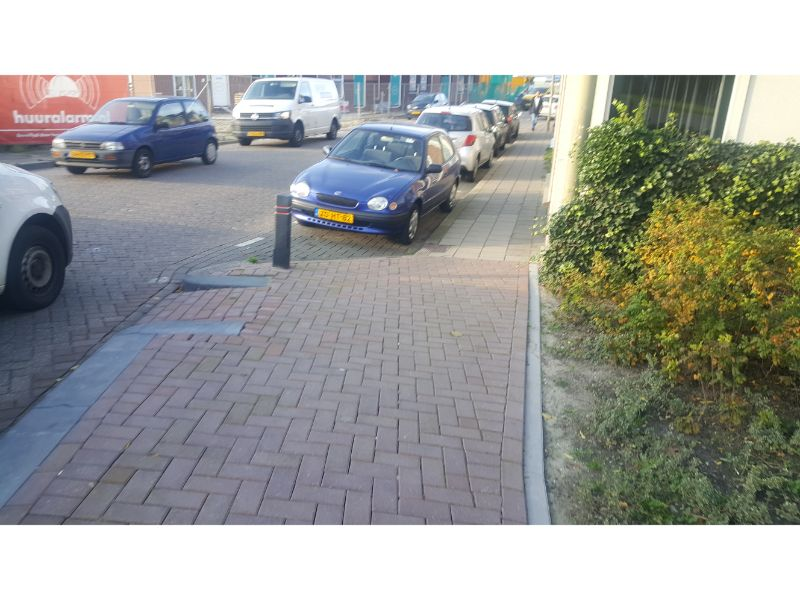kenteken: (313, 206, 353, 224), (66, 149, 99, 159), (244, 128, 266, 139)
